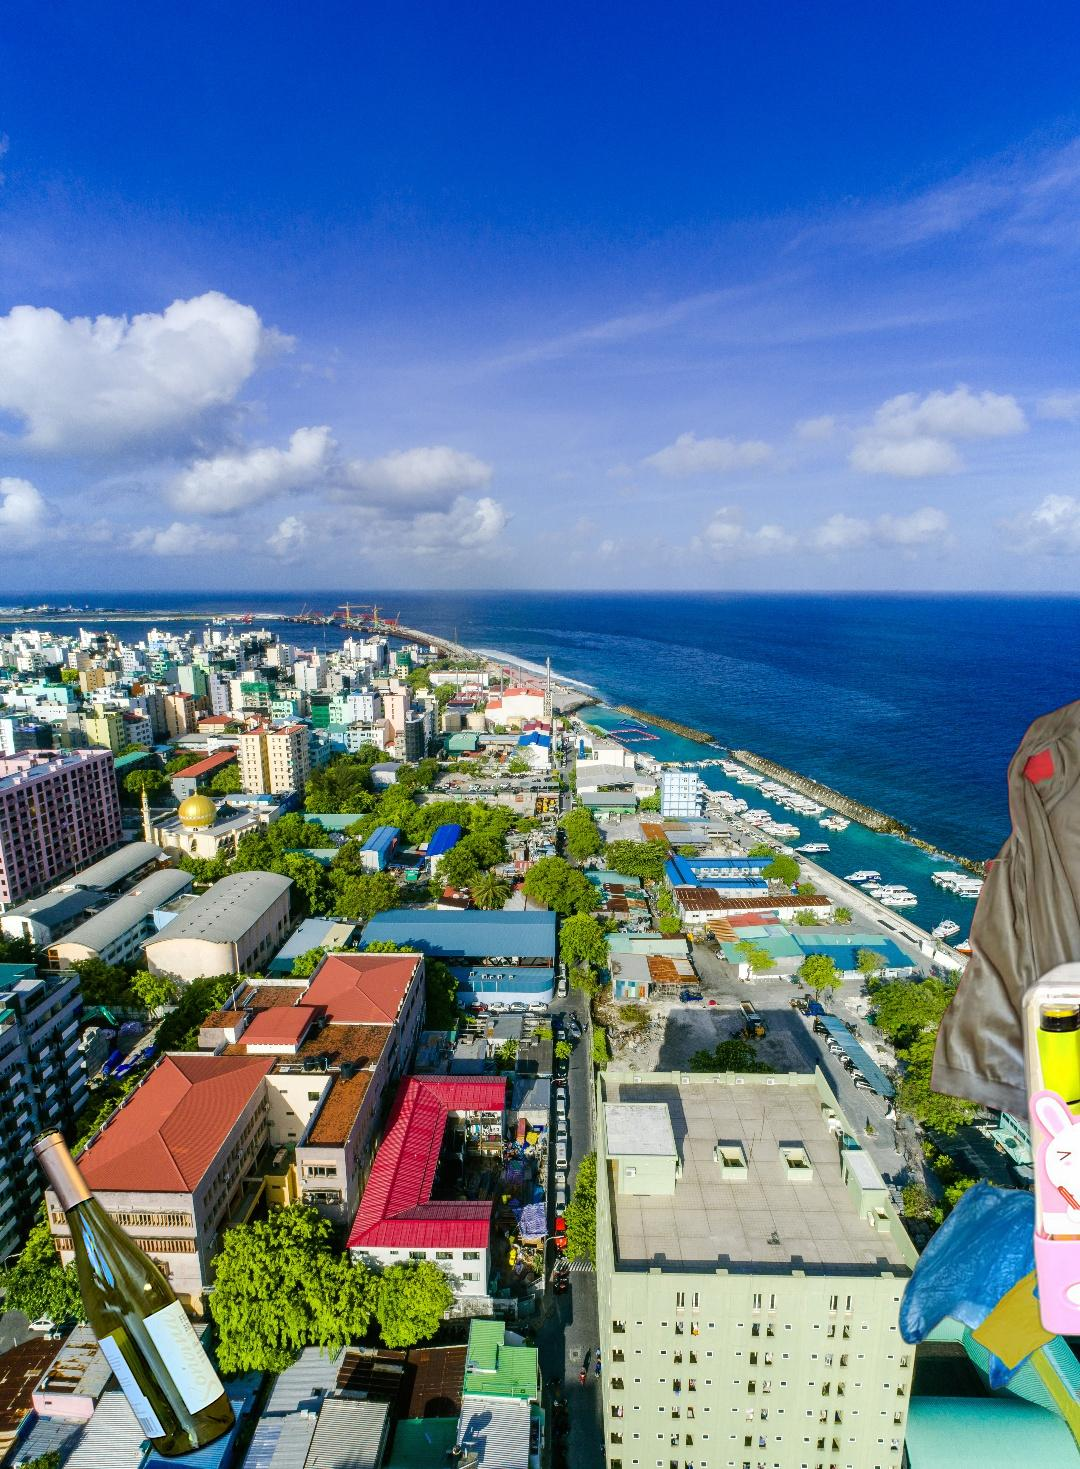clothes: (926, 683, 1080, 1152)
glass: (26, 1120, 241, 1464)
penholder: (1015, 942, 1080, 1341)
plastic-bag: (896, 1172, 1080, 1393)
